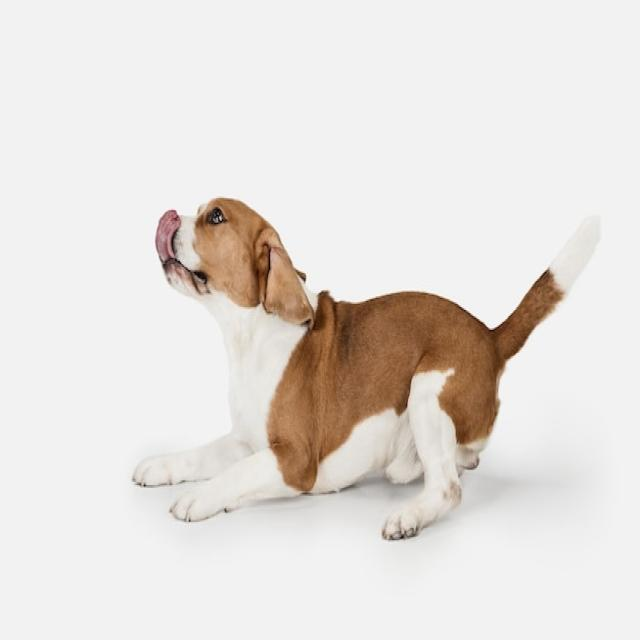Dog: (131, 194, 602, 541)
